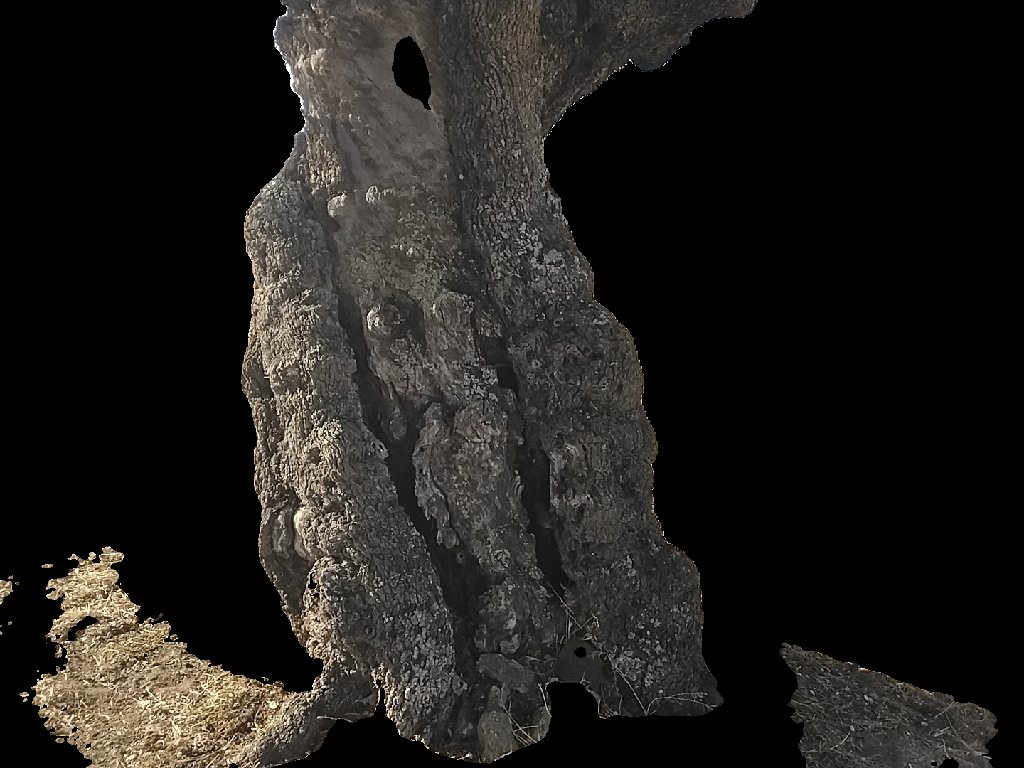Hole: (392, 36, 431, 110)
Injure: (274, 1, 599, 739)
